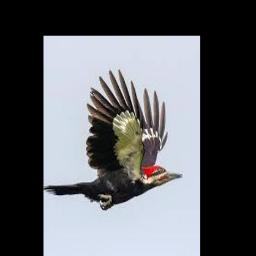Woodpecker: (44, 69, 184, 211)
